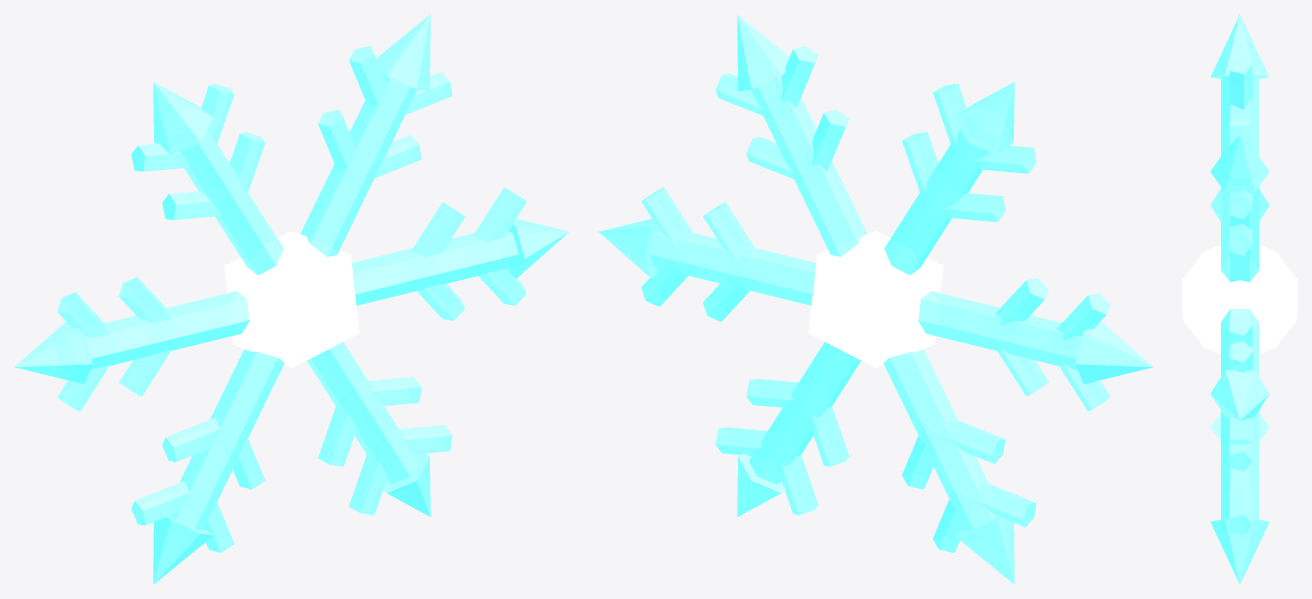
The model's file is powerup_freeze.glb.
The picture shows the model from 3 angles, left to right: view 1: azimuth 30°, elevation 25°; view 2: azimuth 150°, elevation 25°; view 3: azimuth 270°, elevation 25°; orthographic projection. The views are drawn at different scales.
Parts seen in each view (by area): view 1: Freeze; view 2: Freeze; view 3: Freeze.
Boxes of the visible parts, bbox=[...] form: Freeze: bbox=[14, 14, 569, 584]; Freeze: bbox=[598, 14, 1153, 584]; Freeze: bbox=[1182, 14, 1297, 584].
Size of the model in its own units: 1.35 by 1.17 by 0.2722.
